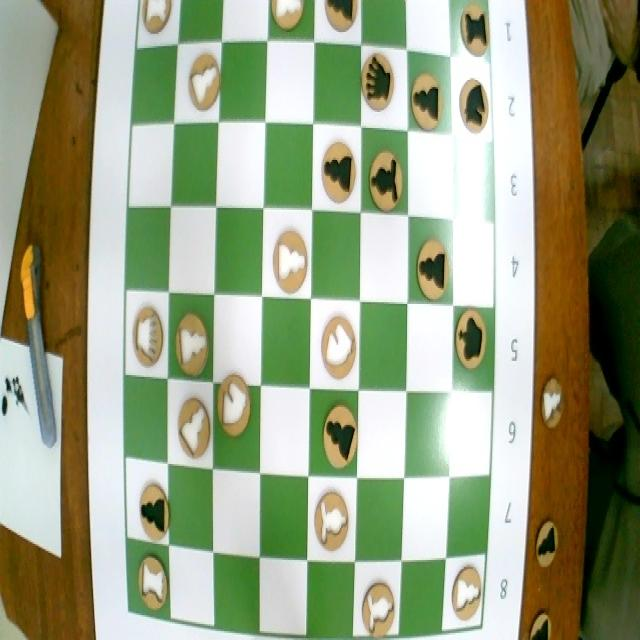chess-pieces: (317, 400, 361, 470), (318, 312, 359, 383), (366, 143, 404, 217), (172, 309, 210, 382), (310, 486, 351, 553), (136, 473, 173, 546), (270, 228, 310, 294), (216, 372, 252, 440), (320, 140, 357, 206), (314, 489, 351, 554), (176, 396, 212, 462), (408, 67, 444, 133), (187, 51, 225, 113), (455, 74, 493, 136), (361, 49, 397, 114), (358, 579, 396, 640), (134, 552, 168, 615), (449, 564, 483, 626), (187, 52, 220, 115), (132, 305, 164, 369), (453, 310, 488, 368), (532, 512, 561, 574), (460, 8, 490, 58), (537, 375, 564, 428)
